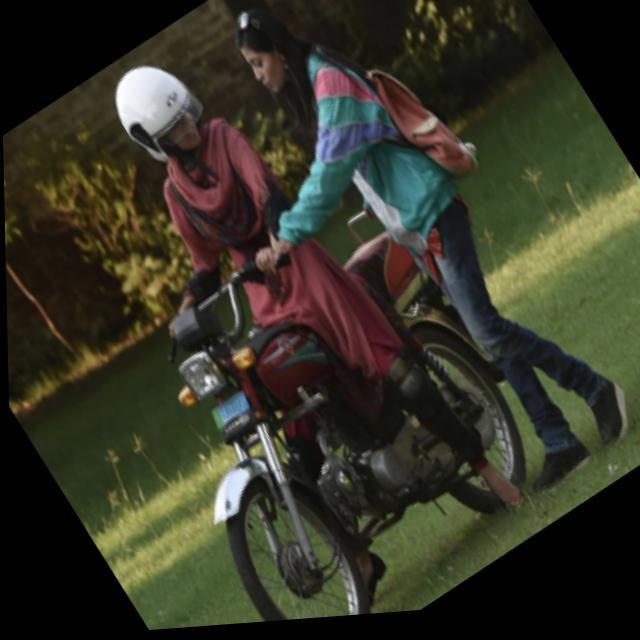Helmet: (109, 60, 210, 164)
Nonhelmet: (227, 5, 313, 100)
